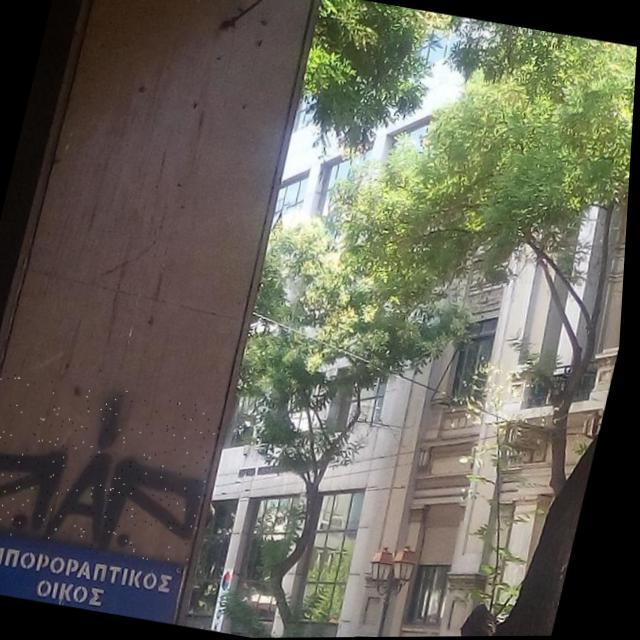-: (0, 367, 232, 569)
